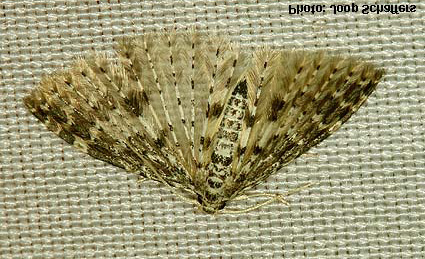Alucitidae: (19, 20, 386, 219)
moth: (21, 22, 388, 221)
